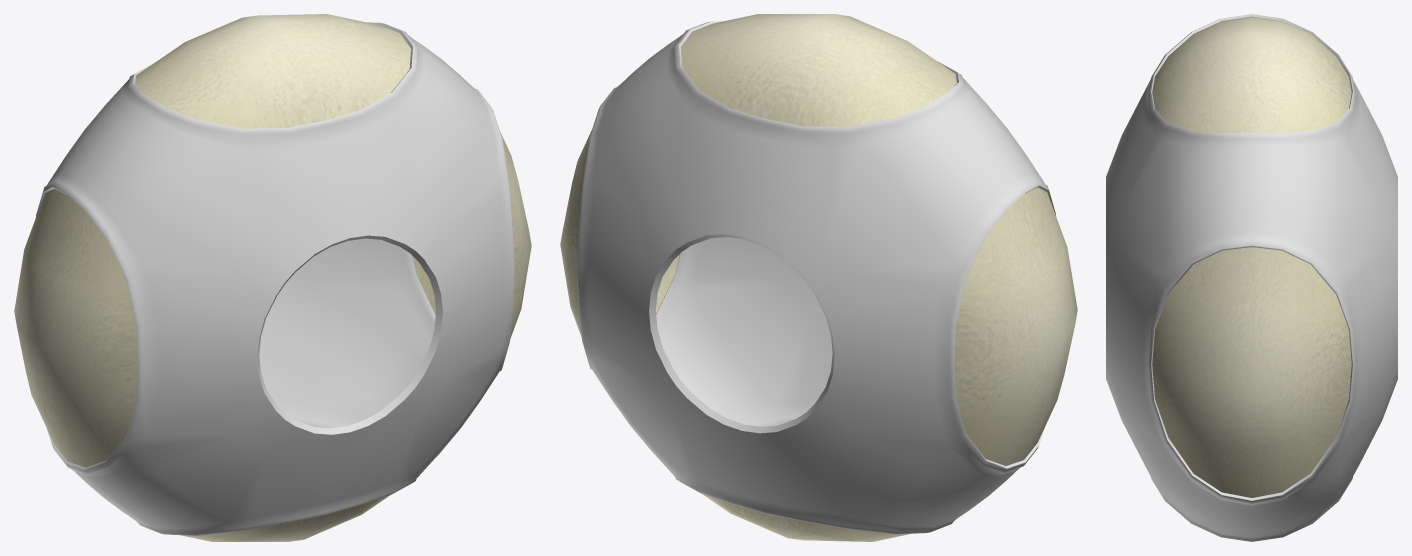
The model's file is nt_2020_light_fixture_LOD0.obj.
The picture shows the model from 3 angles, left to right: view 1: azimuth 30°, elevation 25°; view 2: azimuth 150°, elevation 25°; view 3: azimuth 270°, elevation 25°; orthographic projection. The views are drawn at different scales.
Visible parts, largest first — view 1: mtl_nt_2020_light_fixture, glass_frosted_lit; view 2: mtl_nt_2020_light_fixture, glass_frosted_lit; view 3: mtl_nt_2020_light_fixture, glass_frosted_lit.
Boxes of the visible parts, left/top/right/bottom form: mtl_nt_2020_light_fixture: left=36, top=22, right=514, bottom=535; glass_frosted_lit: left=14, top=14, right=531, bottom=541; mtl_nt_2020_light_fixture: left=577, top=20, right=1055, bottom=534; glass_frosted_lit: left=560, top=14, right=1077, bottom=541; mtl_nt_2020_light_fixture: left=1106, top=14, right=1397, bottom=541; glass_frosted_lit: left=1152, top=16, right=1351, bottom=497.
Bounding box in the file's own units: 43.22 × 43.22 × 23.61.
